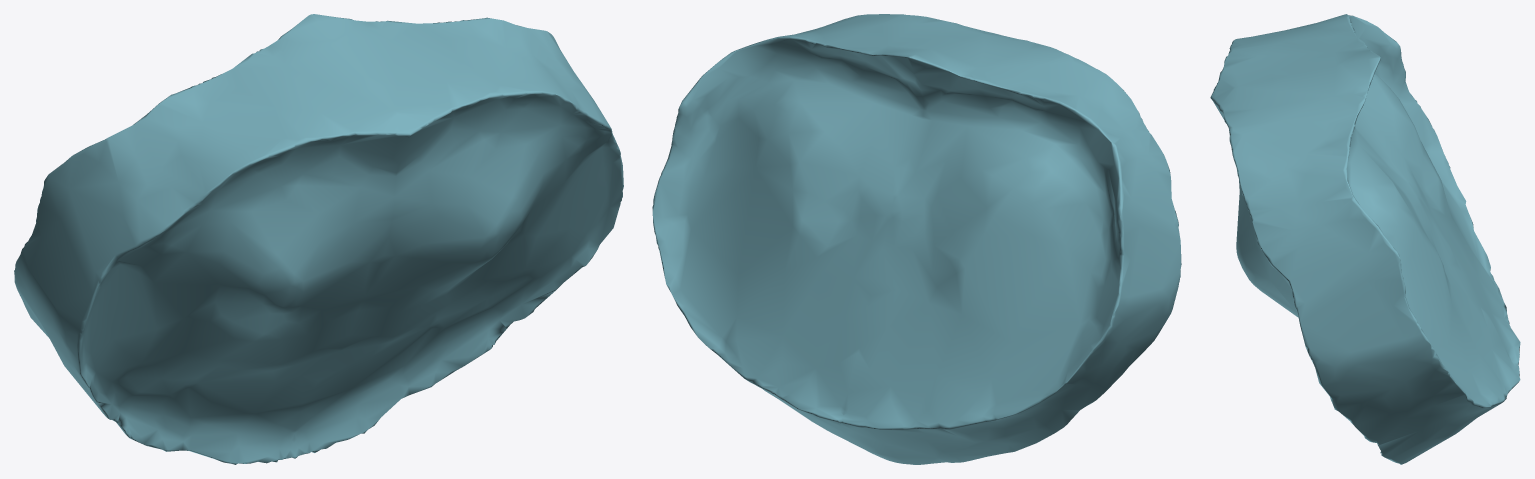
3 views of the same model, side by side, from view 1: azimuth 30°, elevation 25°; view 2: azimuth 150°, elevation 25°; view 3: azimuth 270°, elevation 25° (orthographic). The views are drawn at different scales.
Parts seen in each view (by area): view 1: 腰5—骶1椎间盘; view 2: 腰5—骶1椎间盘; view 3: 腰5—骶1椎间盘.
Part boxes in pixels (x1,y1,x2,y2): 腰5—骶1椎间盘: (14,14,623,464); 腰5—骶1椎间盘: (652,14,1181,464); 腰5—骶1椎间盘: (1210,14,1520,464).
Bounding box in the file's own units: 0.0747 × 0.0597 × 0.0432.
